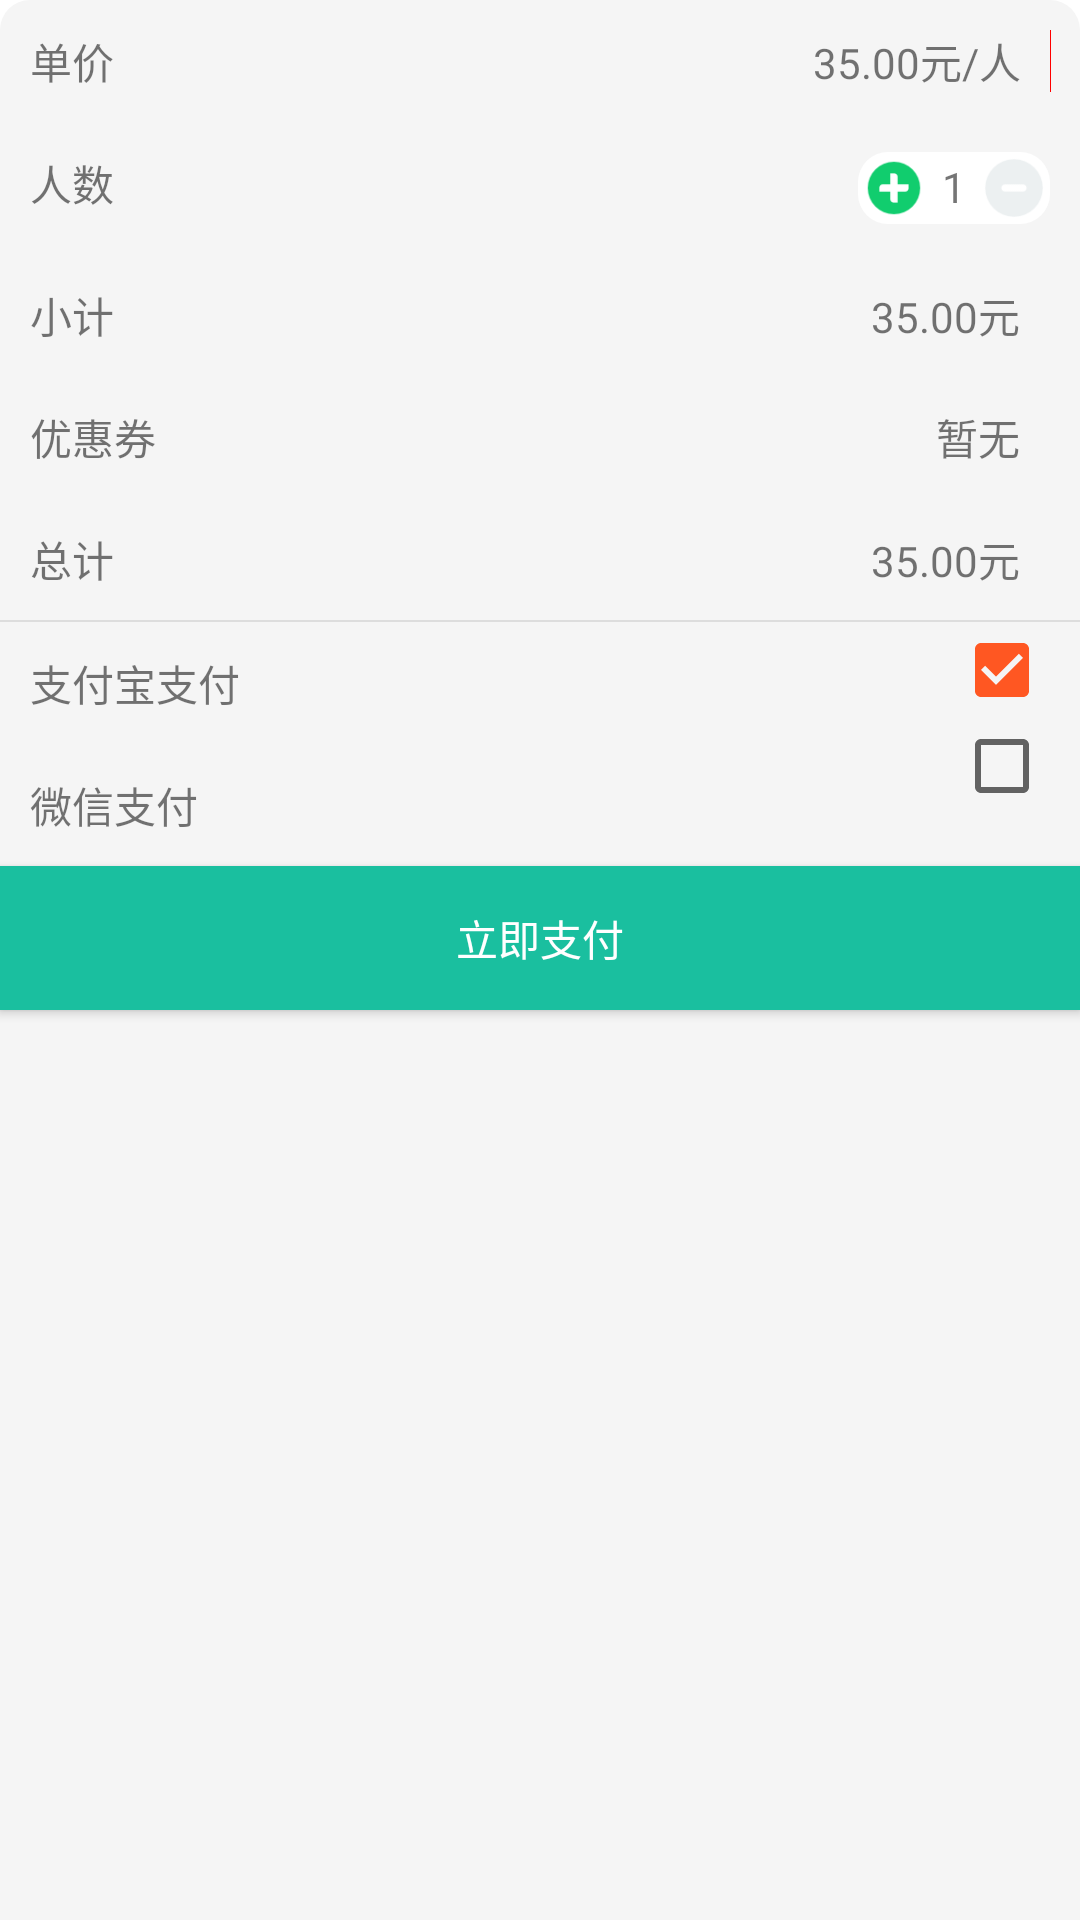

Named icons in this screenshot (1080 x 1920) and their bounding boxes, [left=x1, top=y1, right=x2, bottom=y2]:
add: [left=867, top=161, right=921, bottom=215]
